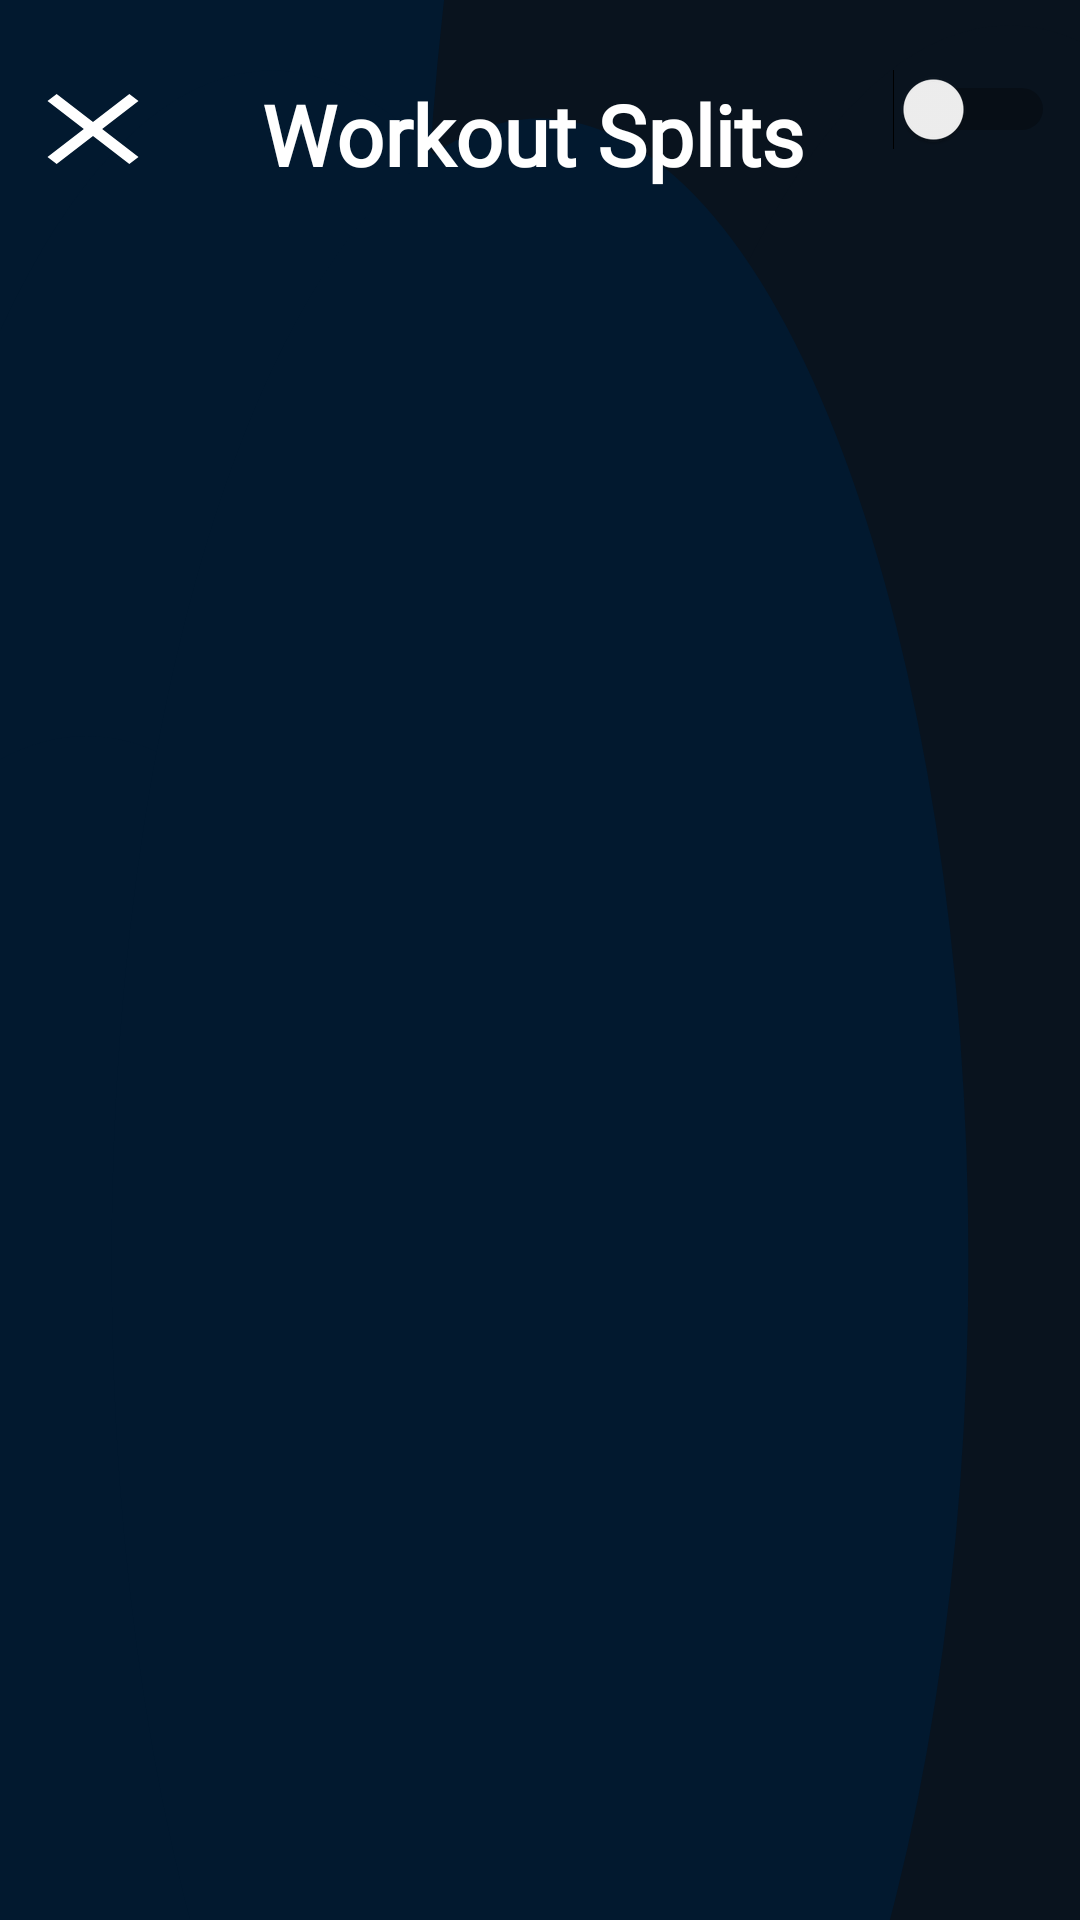

Where icons sit on this 1080*1920 app screen, as (x1,y1,x2,y2):
close: (48,94,138,164)
